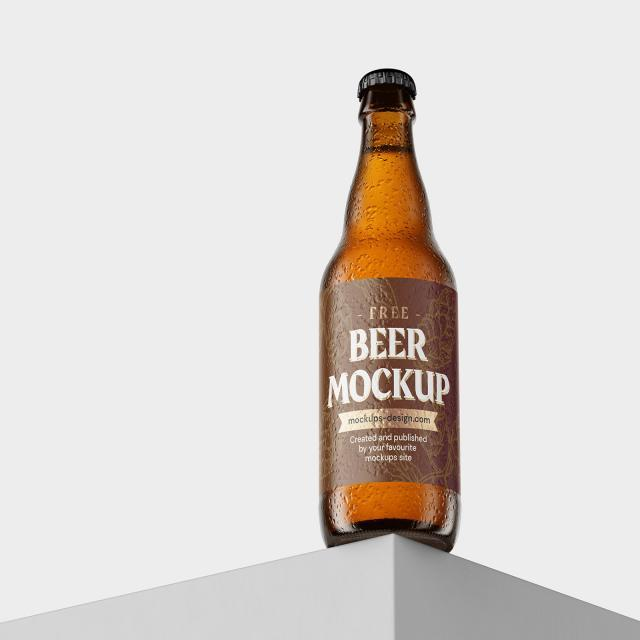Glass: (318, 68, 462, 556)
